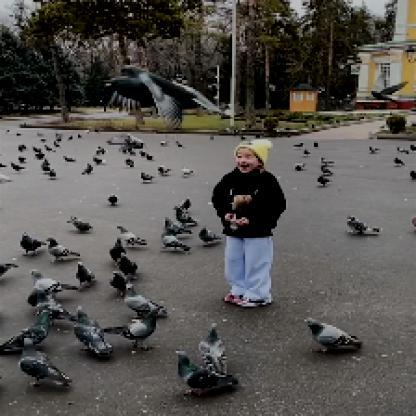child: (212, 141, 288, 310)
